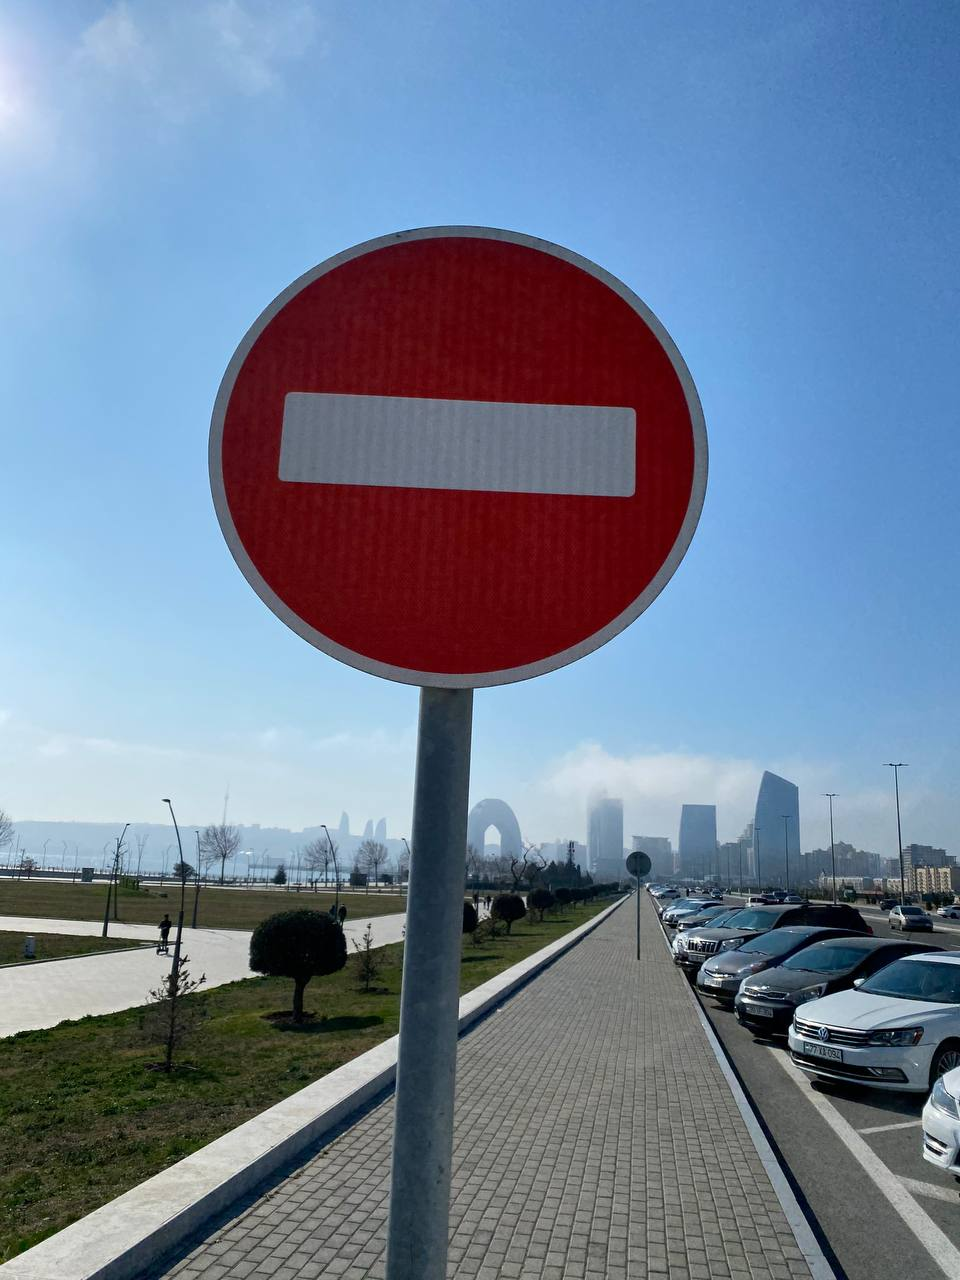No Entry: (205, 227, 712, 690)
